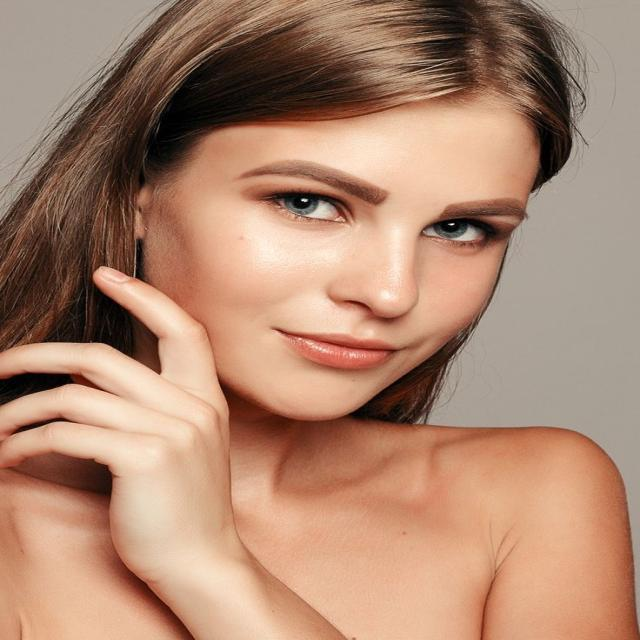oily: (348, 124, 480, 242), (269, 343, 361, 458), (218, 243, 302, 343), (404, 280, 506, 322)
